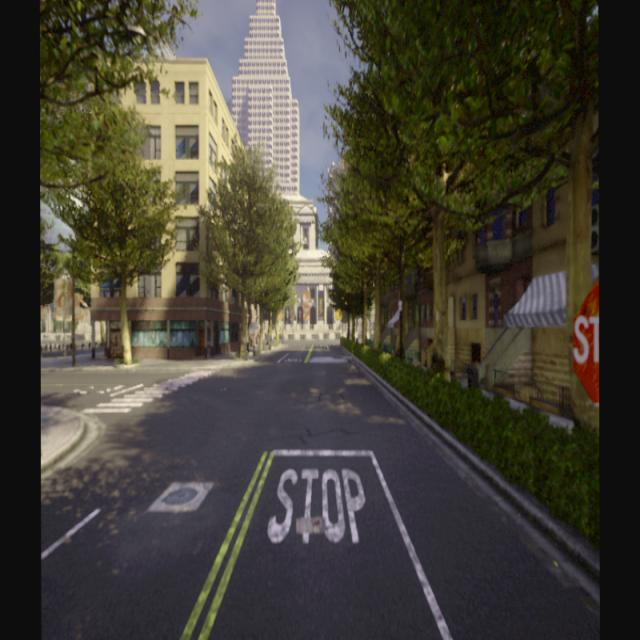stop sign: (569, 276, 601, 406)
